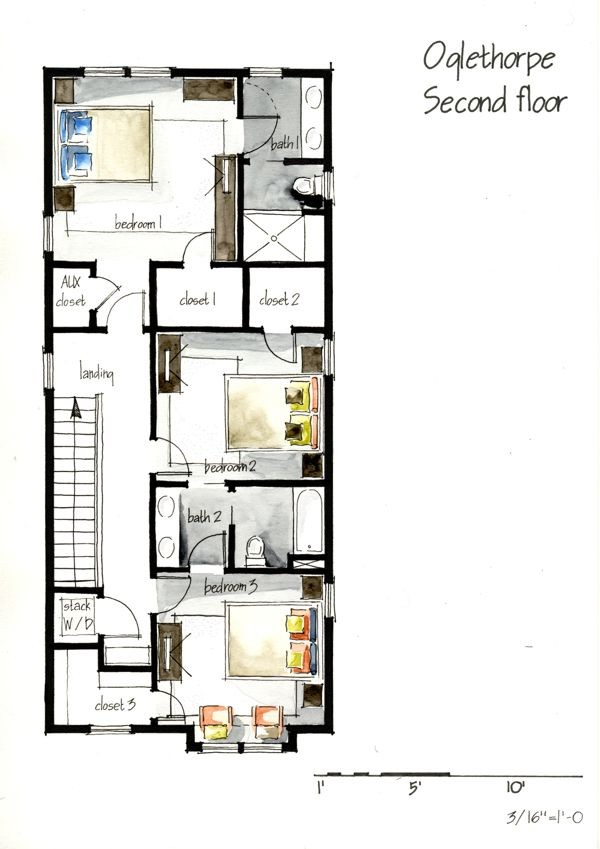door: (182, 515, 230, 577), (155, 570, 202, 627), (100, 593, 146, 650), (104, 283, 154, 335), (231, 109, 283, 159), (255, 325, 306, 375), (147, 436, 202, 480), (173, 221, 221, 266), (155, 680, 193, 730), (89, 274, 120, 314)
room: (49, 588, 339, 730), (49, 66, 240, 263), (49, 329, 154, 593), (155, 330, 331, 484), (154, 480, 334, 576), (239, 157, 334, 264), (239, 74, 331, 163), (52, 268, 162, 334), (243, 263, 332, 333), (156, 263, 250, 329)
wall: (32, 388, 60, 742), (29, 63, 65, 215), (318, 202, 351, 355), (130, 470, 164, 584), (316, 59, 344, 171), (319, 618, 345, 735), (35, 252, 64, 354), (147, 316, 265, 341), (320, 374, 348, 479), (39, 633, 108, 674), (130, 720, 204, 757), (281, 721, 350, 759), (227, 474, 336, 498), (209, 257, 339, 275), (35, 708, 90, 748), (140, 331, 159, 439), (280, 57, 348, 85), (40, 578, 107, 606), (37, 250, 104, 277), (239, 259, 263, 334), (174, 60, 249, 84), (145, 259, 166, 335), (139, 467, 195, 494), (284, 152, 343, 177), (41, 318, 108, 340), (90, 655, 154, 678), (223, 521, 242, 578), (148, 612, 161, 693)
window: (84, 56, 175, 90), (202, 735, 291, 763), (89, 713, 132, 753), (27, 350, 66, 388), (248, 55, 285, 90), (316, 582, 346, 623), (36, 215, 66, 256), (318, 334, 345, 377), (312, 172, 343, 204)
